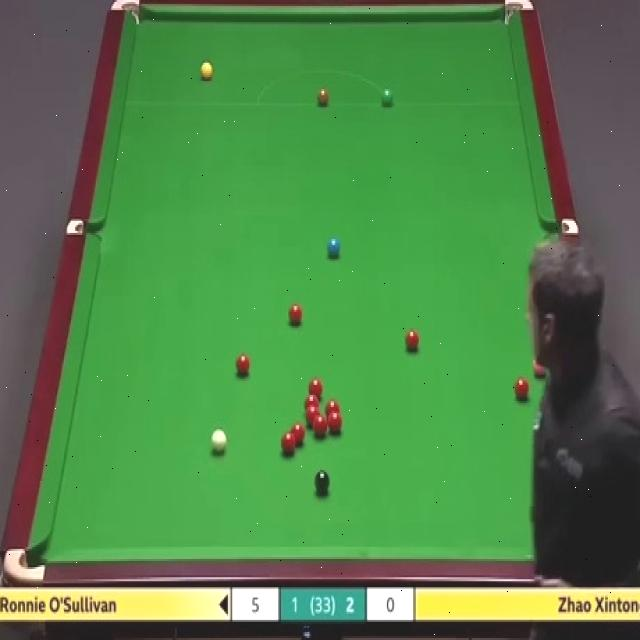black-ball: (314, 468, 330, 498)
blue-ball: (326, 236, 342, 257)
brown-ball: (316, 87, 329, 107)
green-ball: (382, 89, 394, 106)
pink-ball: (533, 352, 548, 378)
red-ball: (234, 352, 252, 380), (280, 432, 297, 457), (515, 377, 532, 401), (291, 424, 307, 449), (327, 412, 343, 436), (406, 328, 420, 353), (288, 304, 303, 326), (313, 414, 327, 437), (307, 378, 324, 395), (304, 393, 319, 410), (306, 407, 320, 425), (326, 402, 340, 415)
white-ball: (210, 428, 228, 453)
yellow-ball: (201, 62, 214, 83)
